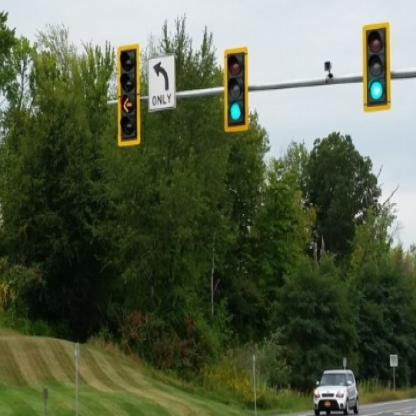green: (226, 54, 246, 126), (367, 30, 386, 103)
left-yellow: (120, 51, 137, 138)
